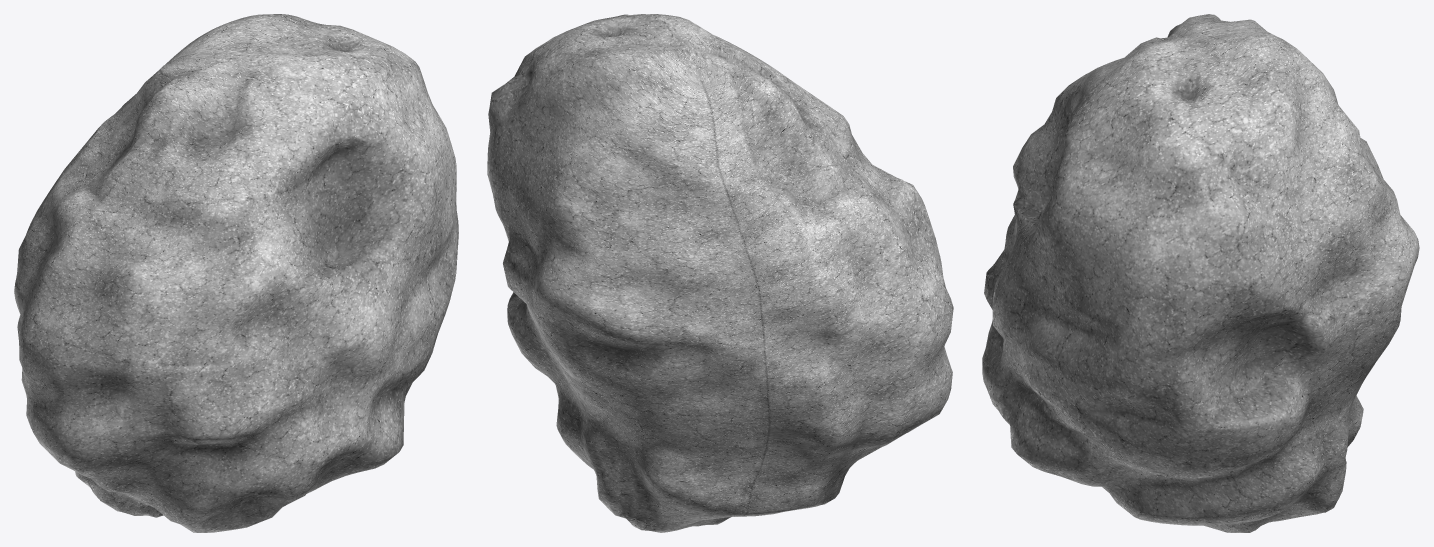
The model's file is Asteroid0.fbx.
3 views of the same model, side by side, from view 1: azimuth 30°, elevation 25°; view 2: azimuth 150°, elevation 25°; view 3: azimuth 270°, elevation 25° (orthographic). The views are drawn at different scales.
Parts seen in each view (by area): view 1: pSphere1; view 2: pSphere1; view 3: pSphere1.
Boxes of the visible parts, box(x1,y1,x2,y2) form: pSphere1: box(14, 14, 458, 532); pSphere1: box(487, 14, 953, 532); pSphere1: box(982, 14, 1419, 532).
Size of the model in its own units: 3.39 by 3.53 by 2.78.
